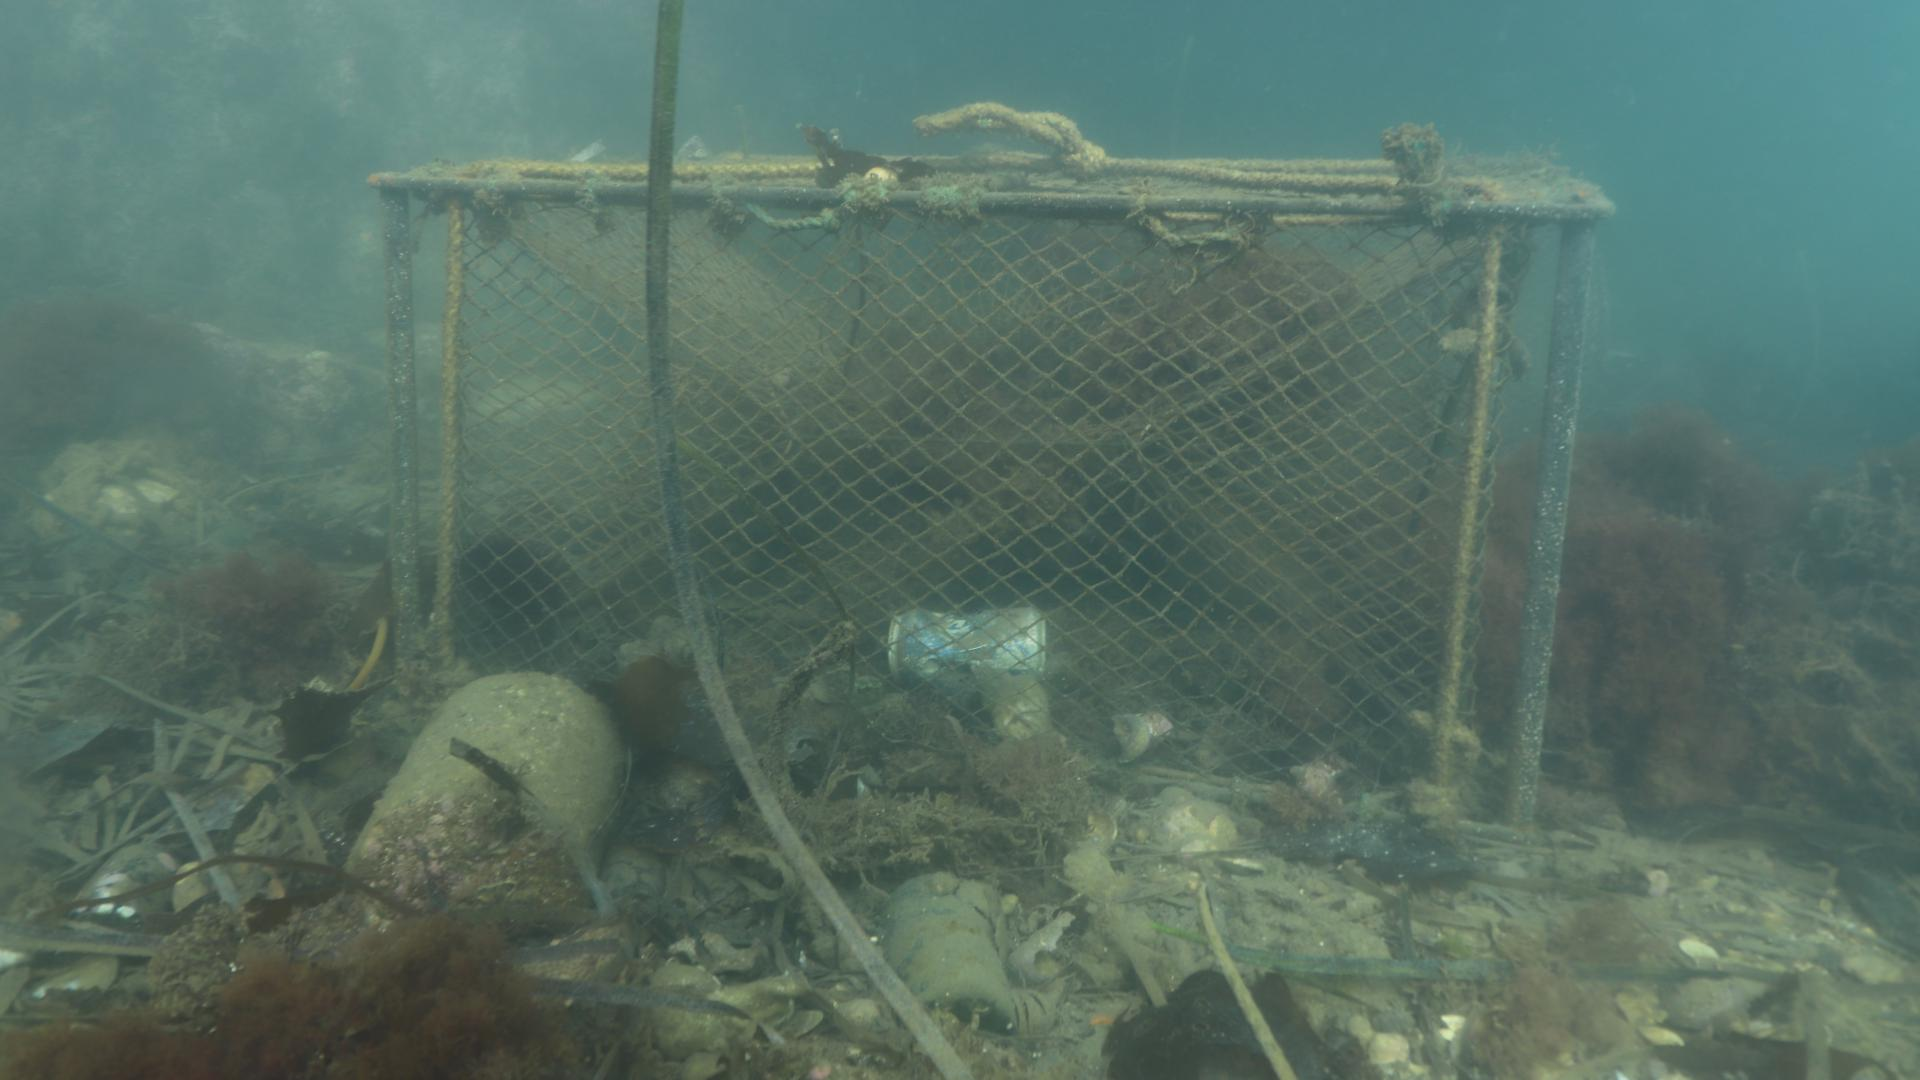bundle of ropes: (910, 95, 1101, 164)
rectangular fish trap: (368, 160, 1619, 845)
